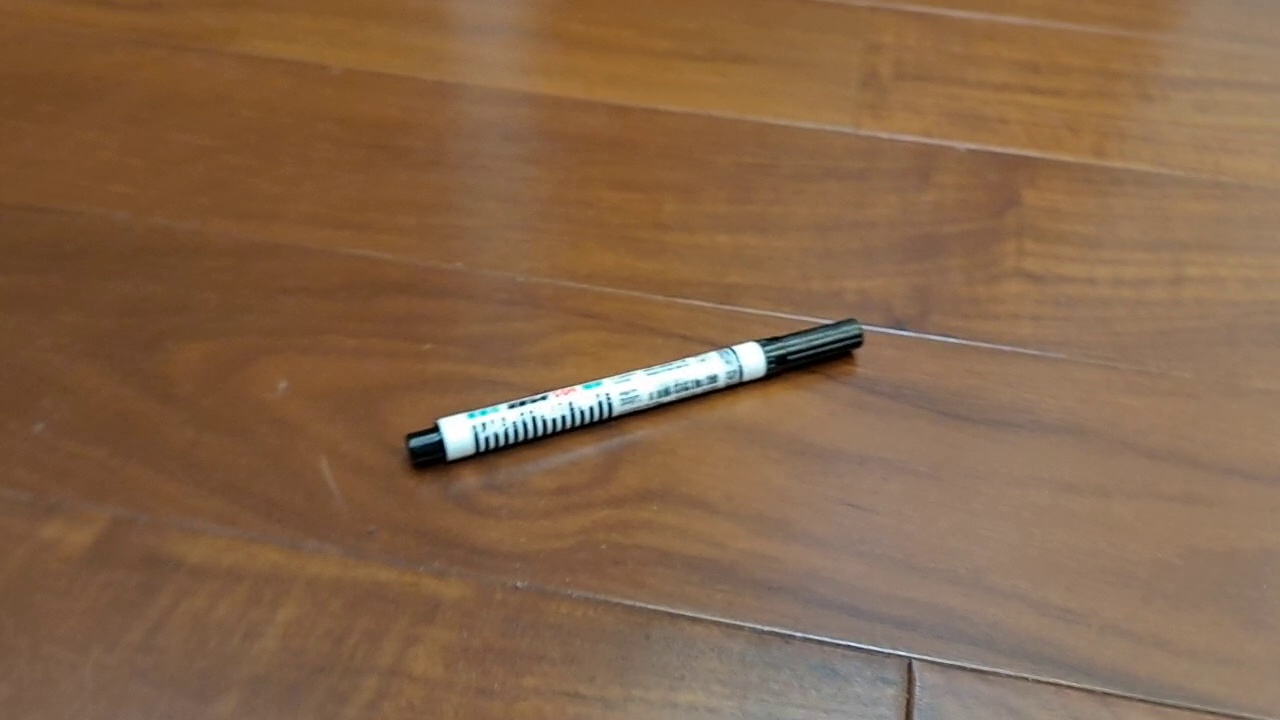pen: (405, 316, 865, 471)
